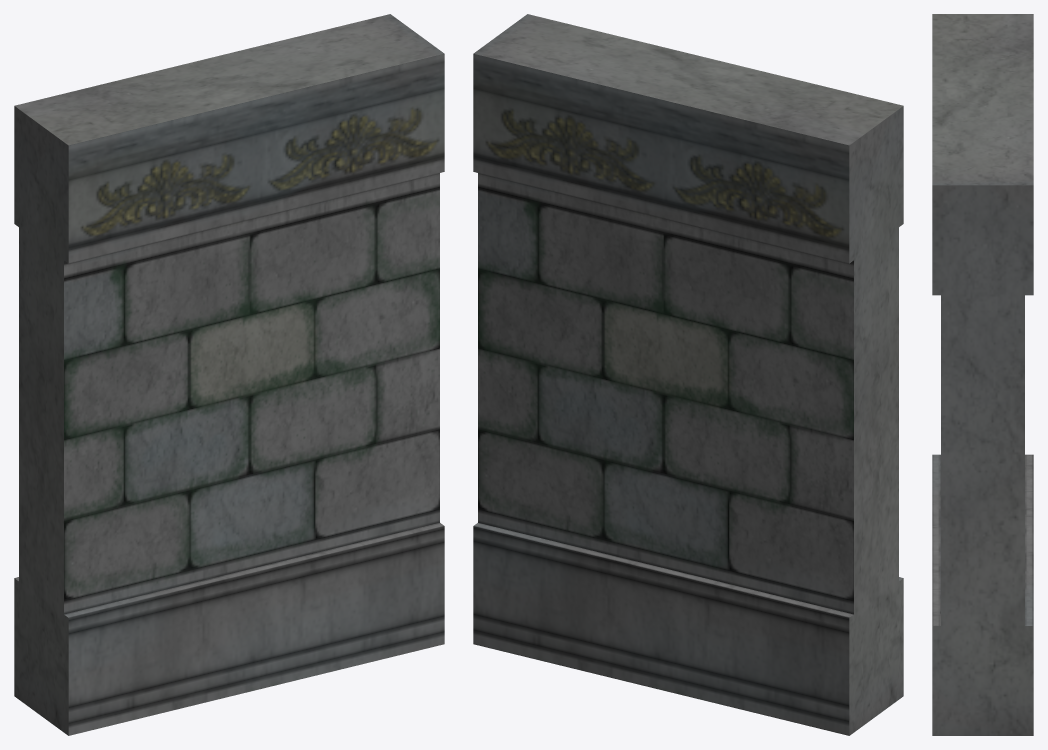
The model's file is wall_small_01.glb.
3 views of the same model, side by side, from view 1: azimuth 30°, elevation 25°; view 2: azimuth 150°, elevation 25°; view 3: azimuth 270°, elevation 25° (orthographic). The views are drawn at different scales.
Parts seen in each view (by area): view 1: wall_small_01; view 2: wall_small_01; view 3: wall_small_01.
Part boxes in pixels (bbox=[...]): wall_small_01: bbox=[14, 14, 444, 735]; wall_small_01: bbox=[473, 14, 903, 735]; wall_small_01: bbox=[932, 14, 1033, 735].
Bounding box in the file's own units: 2 × 3 × 0.5.
1 material, 1 textured.
